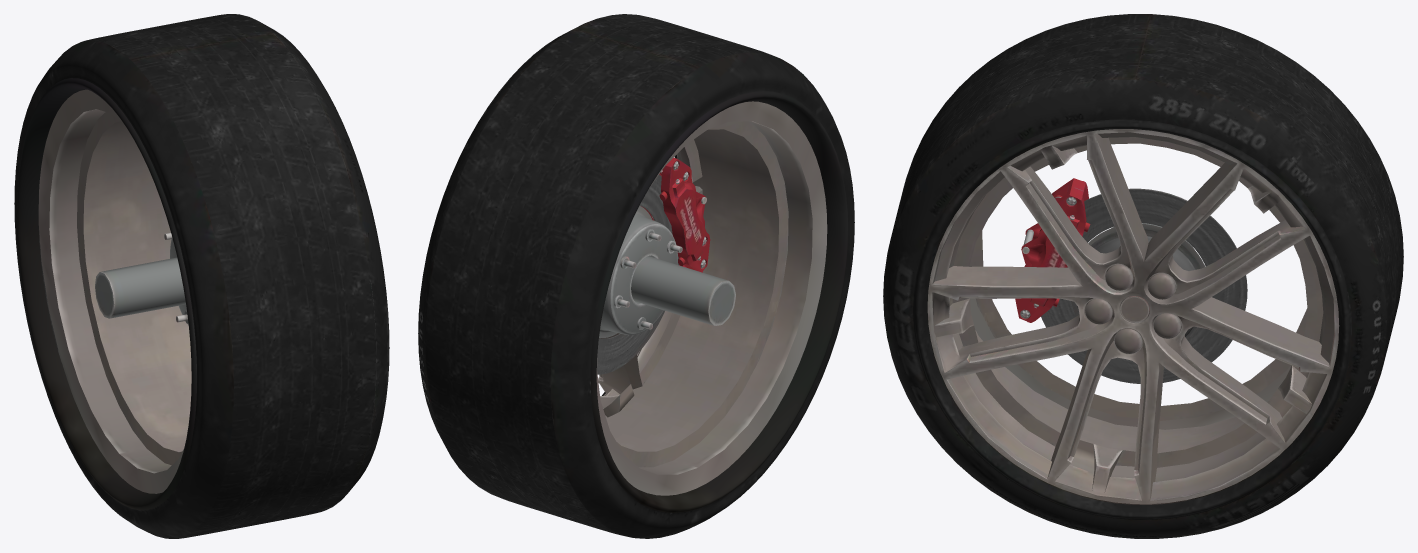
File: car-tyre-game-ready-p-zero-49aa3e.glb
The picture shows the model from 3 angles, left to right: view 1: azimuth 30°, elevation 25°; view 2: azimuth 150°, elevation 25°; view 3: azimuth 270°, elevation 25°; orthographic projection.
Parts seen in each view (by area): view 1: Object_4; view 2: Object_4; view 3: Object_4.
Boxes of the visible parts, box(x1,y1,x2,y2) form: Object_4: box(14, 14, 389, 538); Object_4: box(418, 14, 854, 538); Object_4: box(883, 14, 1403, 538).
Size of the model in its own units: 0.3465 by 0.68 by 0.6955.
1 material, 1 textured.
